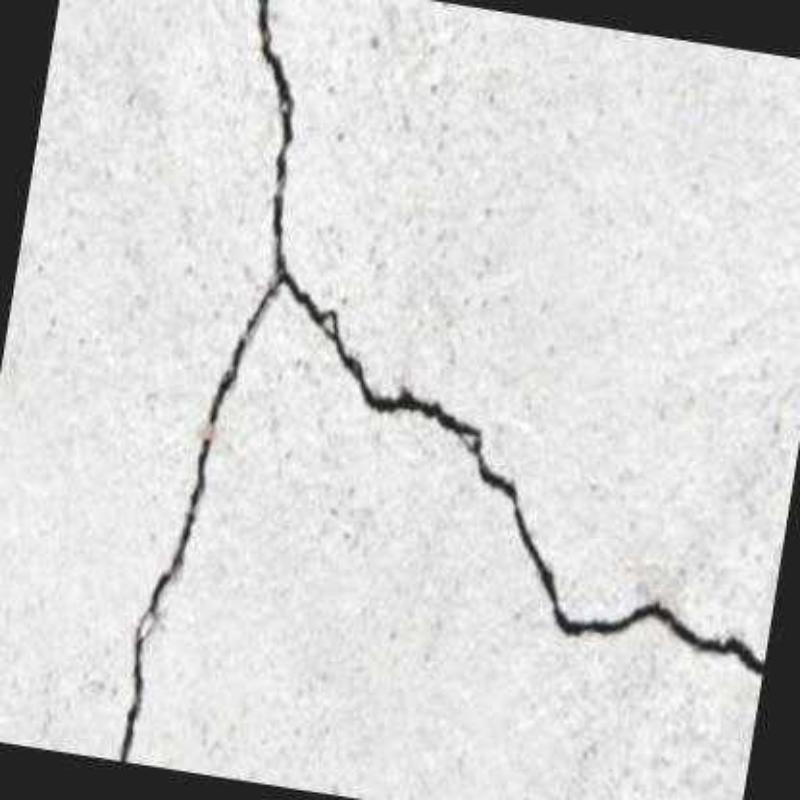pothole: (116, 0, 765, 762)
